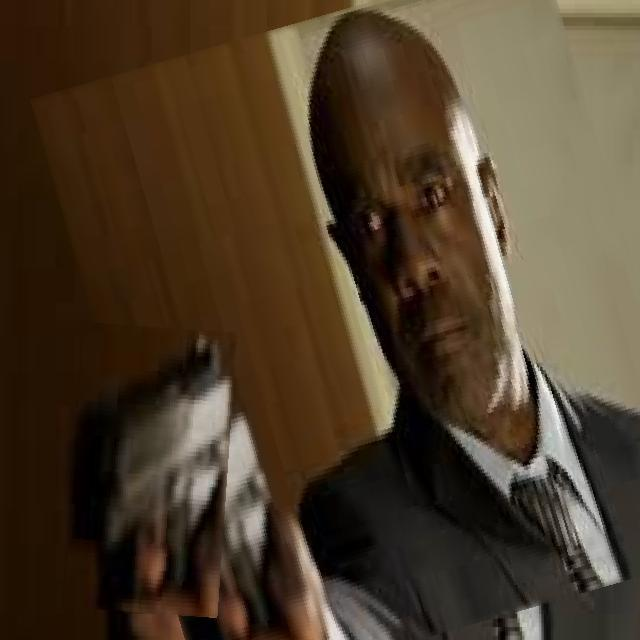Gun_Holder: (42, 337, 280, 640)
Person: (195, 4, 640, 639)
